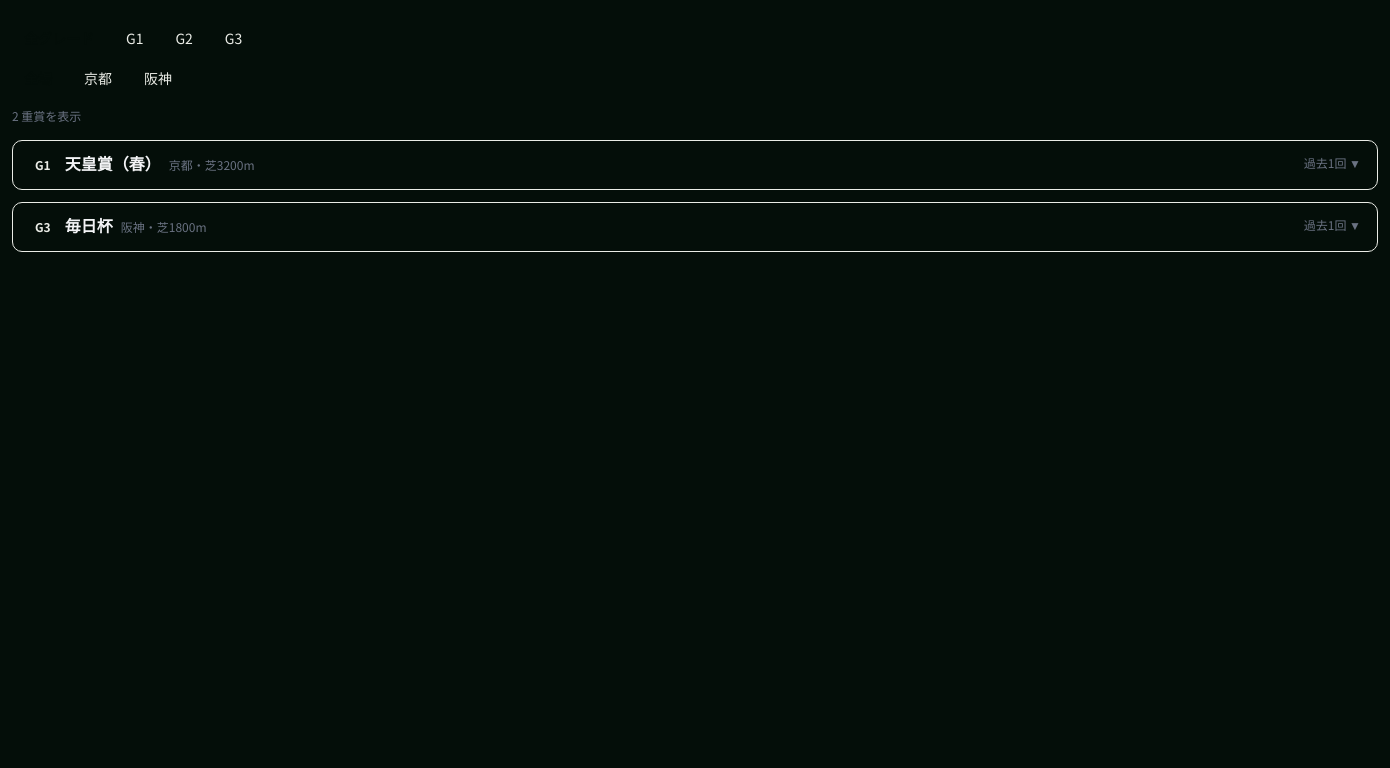
Test case: GradedClient › カードをクリックすると歴代勝ち馬が展開される
The width and height of the screenshot is (1390, 768).
Expected: the text "ジャスティンパレス" is not shown
// 天皇賞（春）のカードをクリック
Click the button "G1 天皇賞（春） 京都・芝3200m 過去1回 ▼" at (113,164), box [13,141,1377,189]
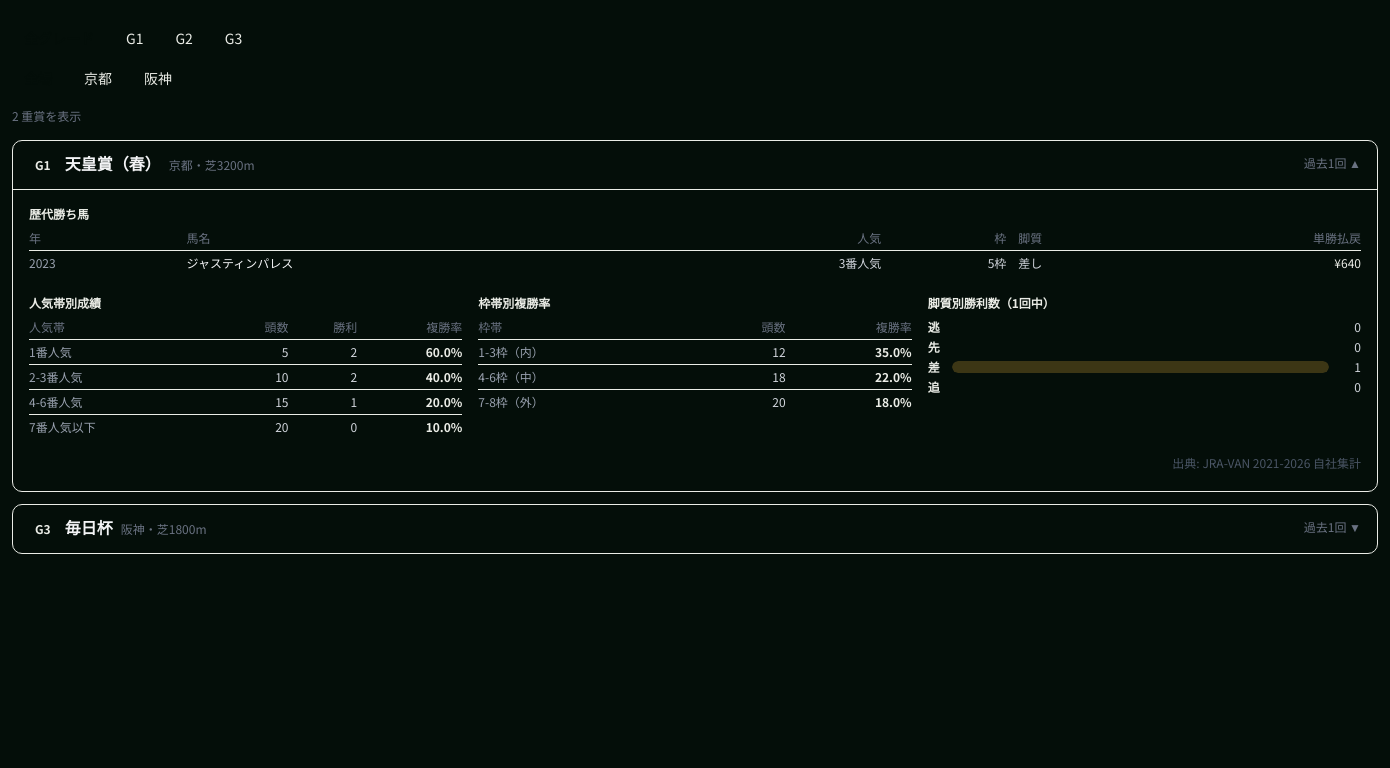
Result: the text "ジャスティンパレス" is shown at [186,250,670,275]
